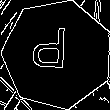P_S: (38, 29, 77, 80)
